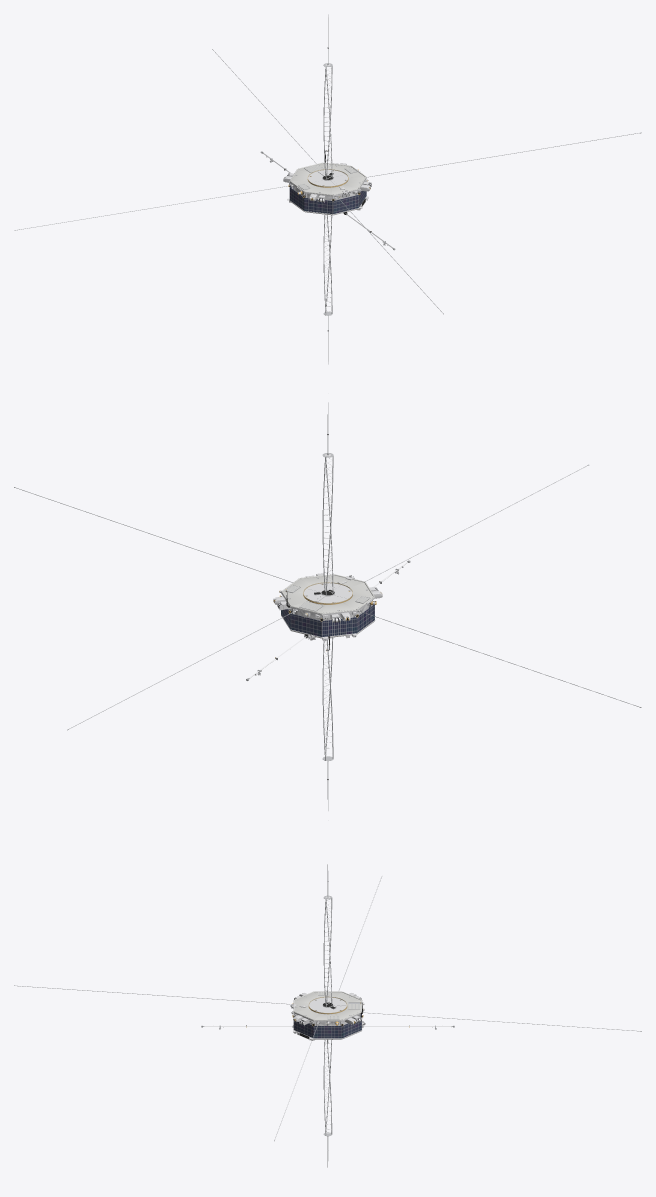
File: mms.glb
3 renders of one model, top to bottom at view 1: azimuth 30°, elevation 25°; view 2: azimuth 150°, elevation 25°; view 3: azimuth 270°, elevation 25°, orthographic. The views are drawn at different scales.
Visible parts, largest first — view 1: MainBus; view 2: MainBus; view 3: MainBus.
Part boxes in pixels (box(x1,y1,x2,y2)): MainBus: box(14, 14, 641, 364); MainBus: box(14, 402, 641, 810); MainBus: box(14, 864, 641, 1167).
Size of the model in its own units: 29.02 by 17.02 by 29.02.
8 materials, 1 textured.
